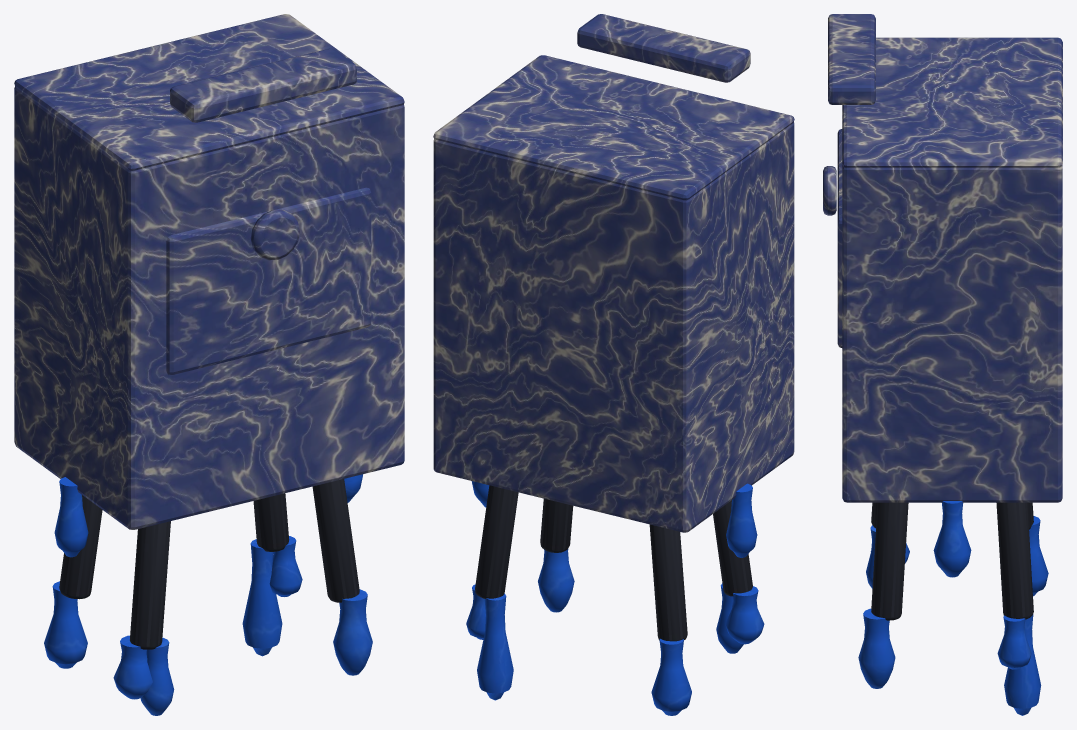
File: mailbox.glb
The picture shows the model from 3 angles, left to right: view 1: azimuth 30°, elevation 25°; view 2: azimuth 150°, elevation 25°; view 3: azimuth 270°, elevation 25°; orthographic projection. The views are drawn at different scales.
Parts seen in each view (by area): view 1: mailbox; view 2: mailbox; view 3: mailbox.
Part boxes in pixels (x1,y1,x2,y2): mailbox: (14, 14, 404, 715); mailbox: (433, 14, 794, 715); mailbox: (823, 14, 1062, 715).
Size of the model in its own units: 0.64 by 1.35 by 0.4693.
1 material, 1 textured.
